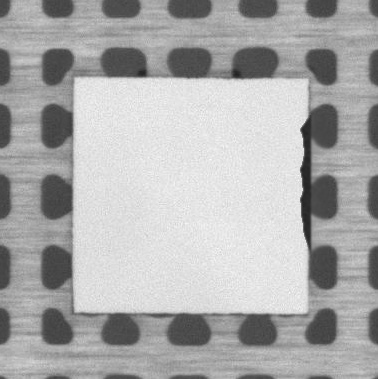DIE_BROKEN: (297, 120, 313, 249)
